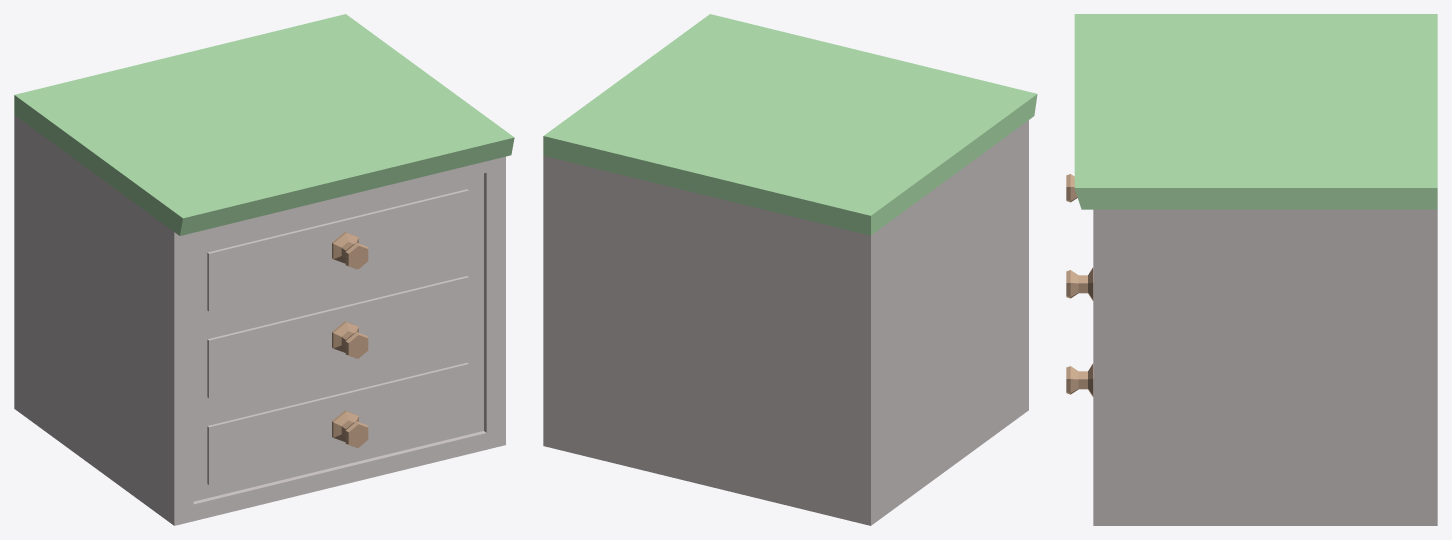
Rendered from COUNTERTOP.fbx.
3 renders of one model, left to right at view 1: azimuth 30°, elevation 25°; view 2: azimuth 150°, elevation 25°; view 3: azimuth 270°, elevation 25°, orthographic. The views are drawn at different scales.
Visible parts, largest first — view 1: Plane.001; view 2: Plane.001; view 3: Plane.001.
Boxes of the visible parts, x1,y1,x2,y2 form: Plane.001: [14, 14, 514, 525]; Plane.001: [543, 14, 1037, 525]; Plane.001: [1066, 14, 1437, 525].
Bounding box in the file's own units: 4.55 × 4.11 × 4.1.
